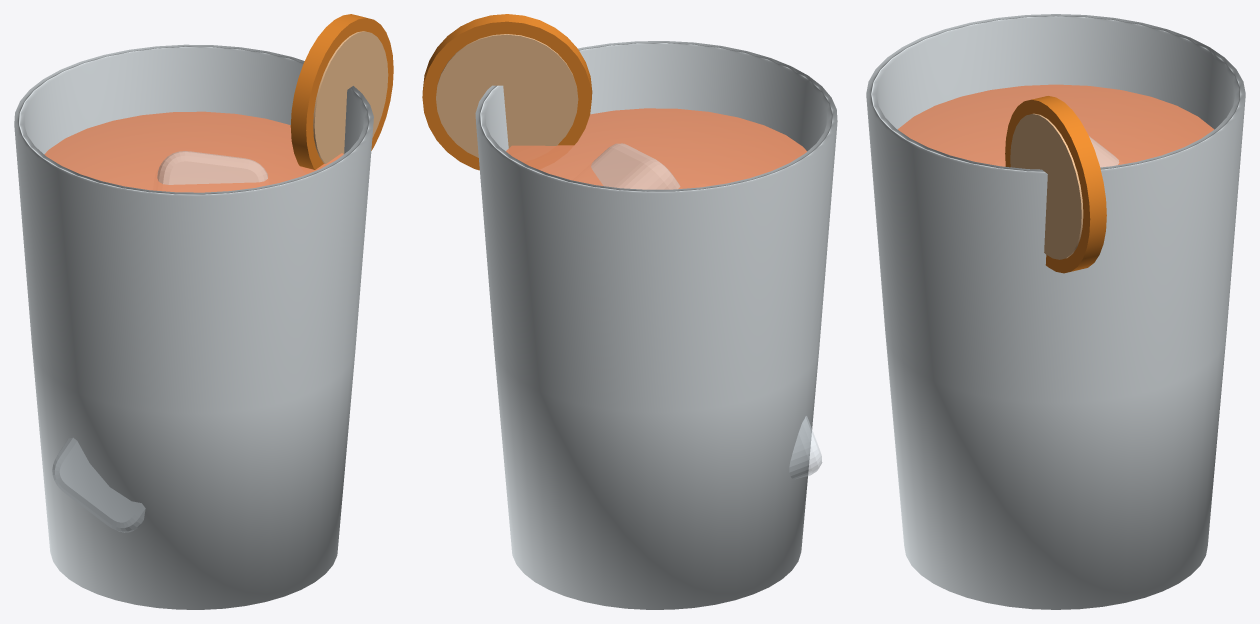
File: cocktail-good-vibes.glb
3 renders of one model, left to right at view 1: azimuth 30°, elevation 25°; view 2: azimuth 150°, elevation 25°; view 3: azimuth 270°, elevation 25°, orthographic. The views are drawn at different scales.
Size of the model in its own units: 0.0954 by 0.1204 by 0.08.
